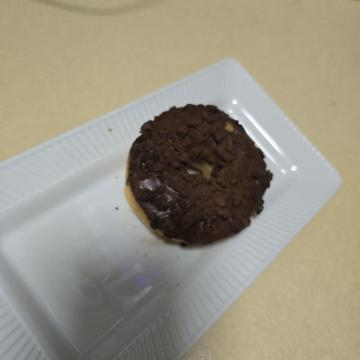doughnut: (80, 78, 265, 250)
